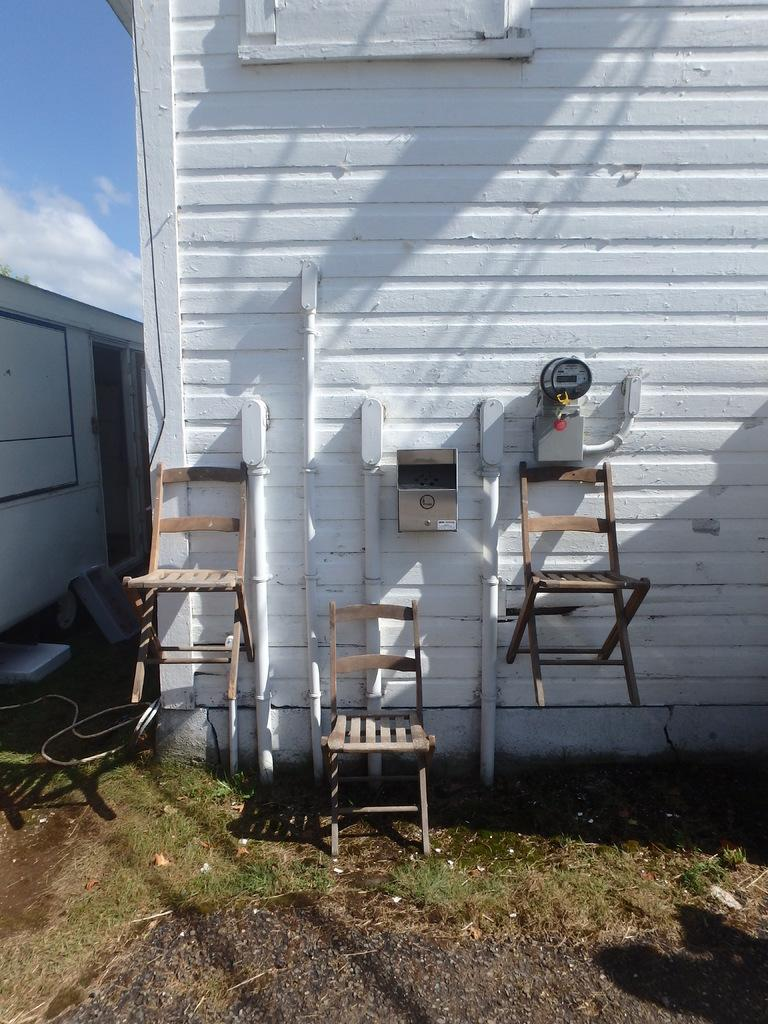Chair: (489, 422, 623, 736), (322, 595, 443, 872), (121, 459, 247, 709)
